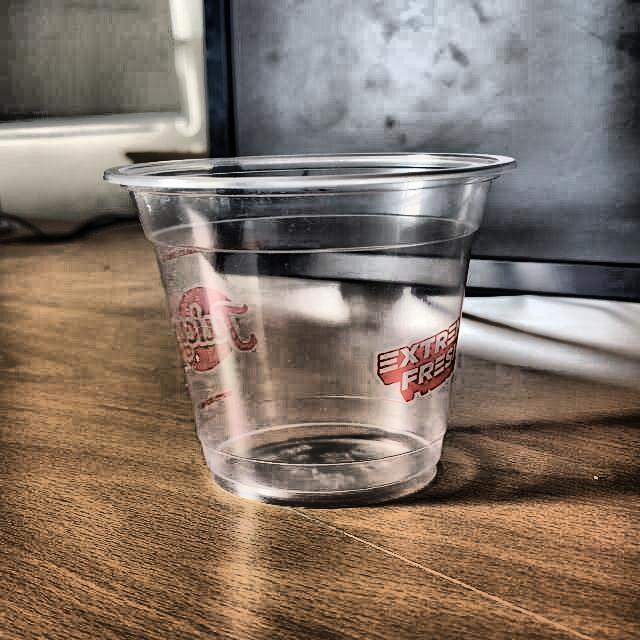plastic cup: (98, 150, 521, 509)
